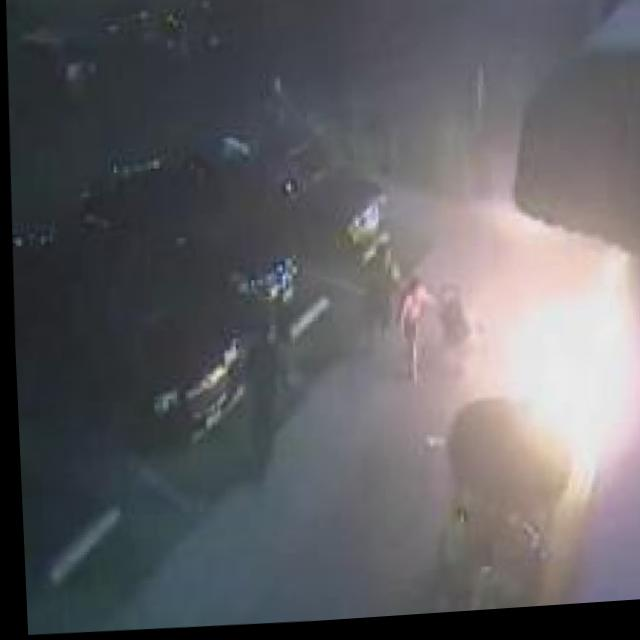fire: (469, 250, 640, 487)
